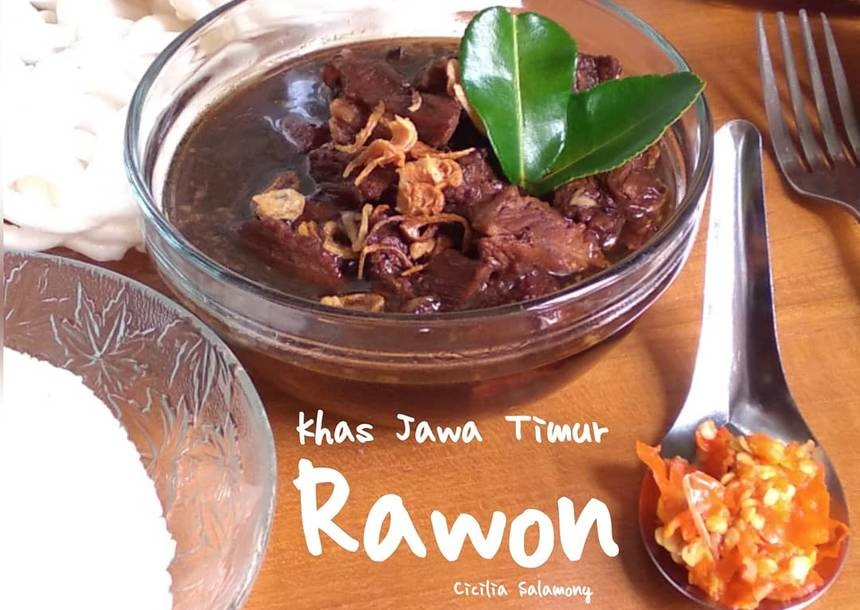rawon: (175, 40, 723, 364), (636, 266, 643, 309)
